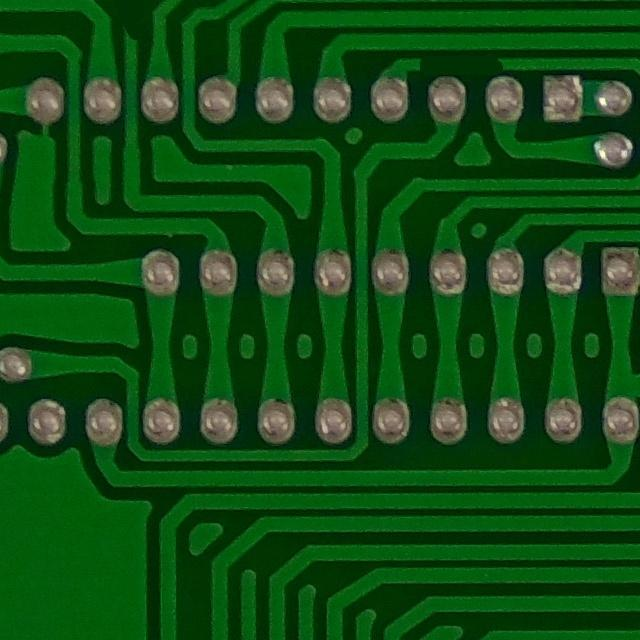open_circuit: (411, 52, 514, 75), (120, 0, 146, 52)
